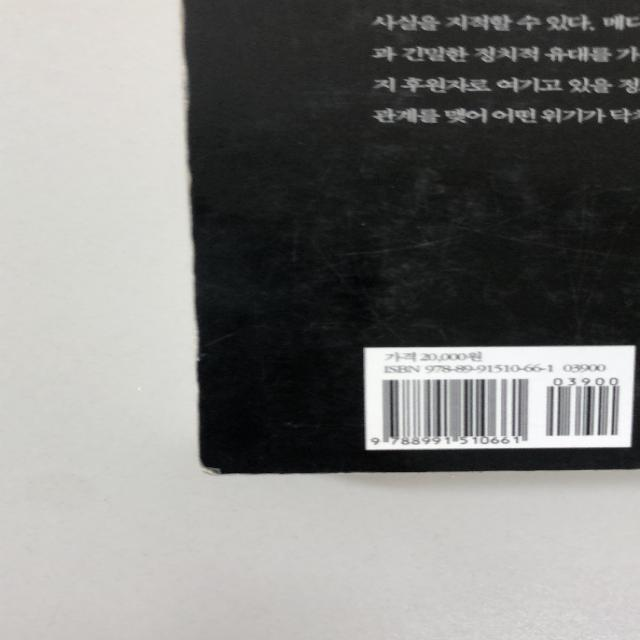Wornout: (181, 154, 210, 234), (174, 42, 199, 130), (193, 452, 240, 478)
